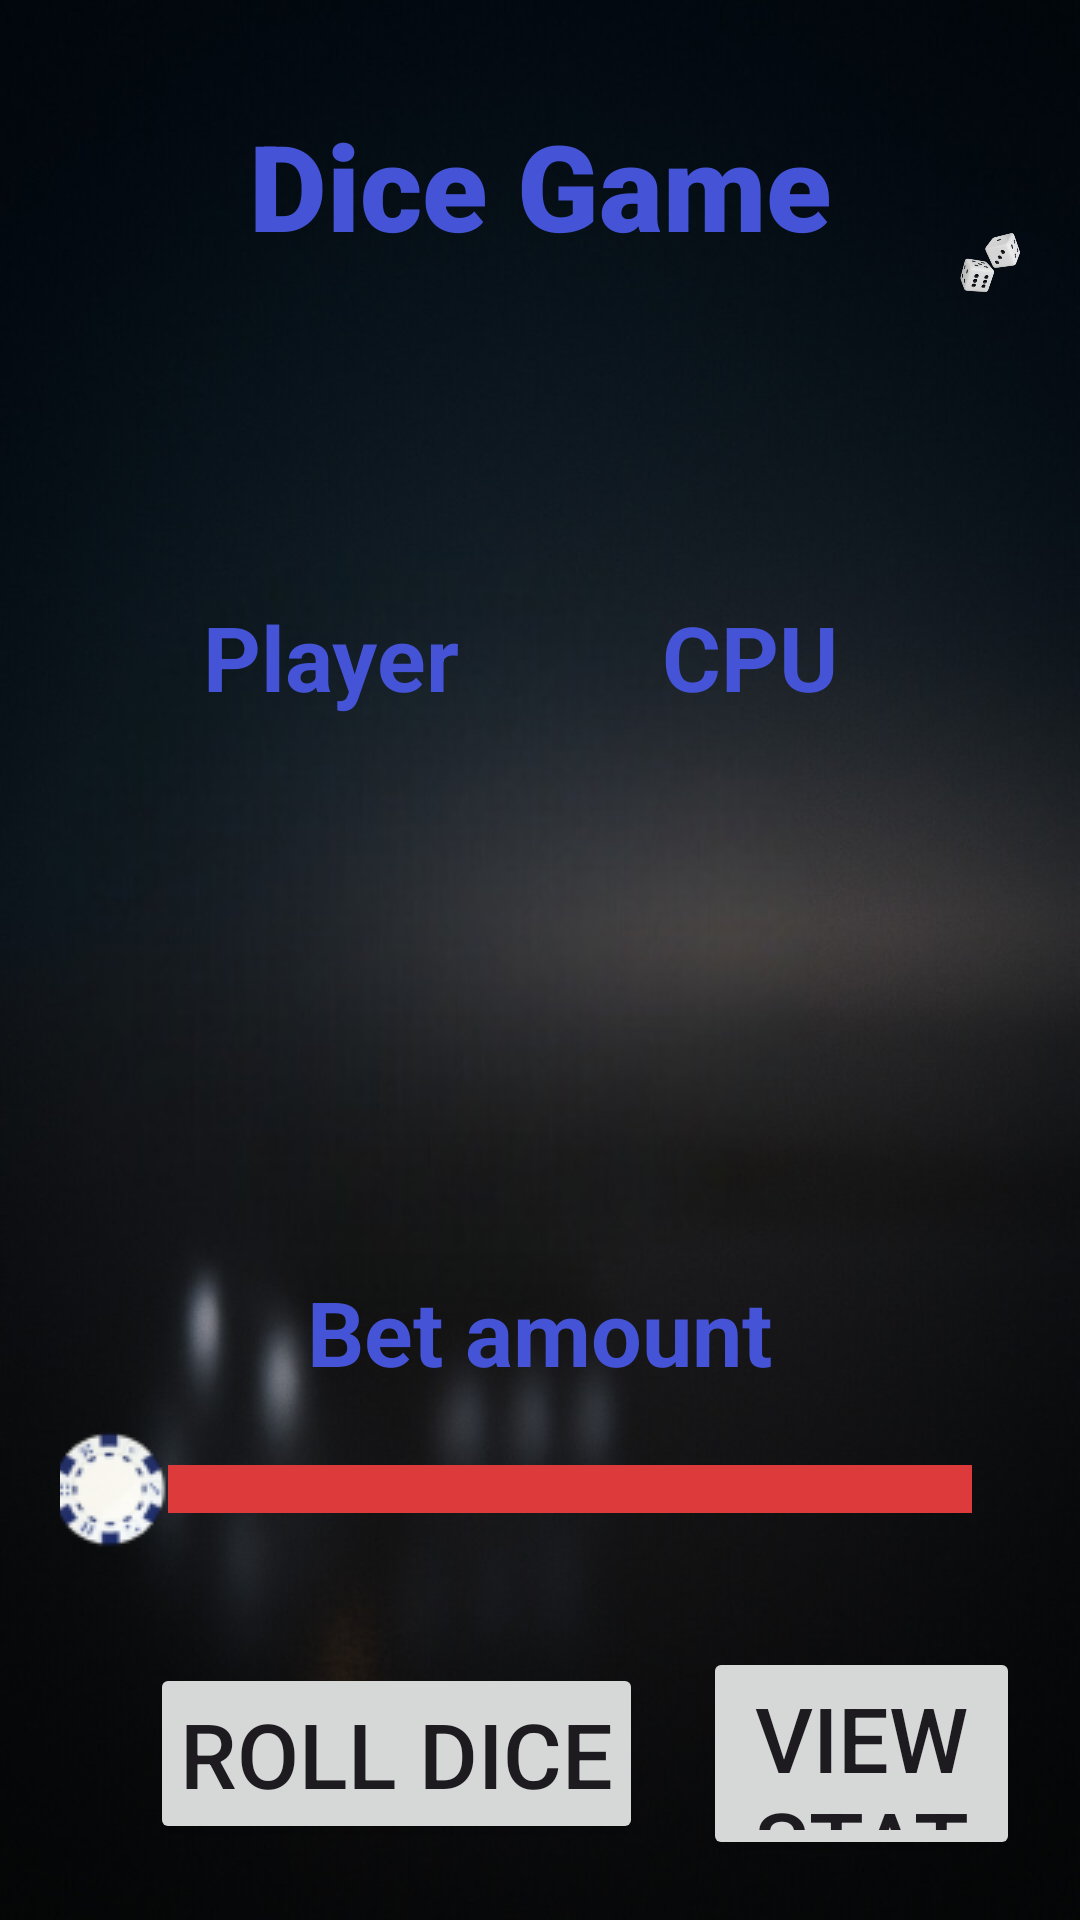

Point at icon controls on the screen. Image size 1080 × 1920, points as [x,y].
image of two dices: [990,262]
